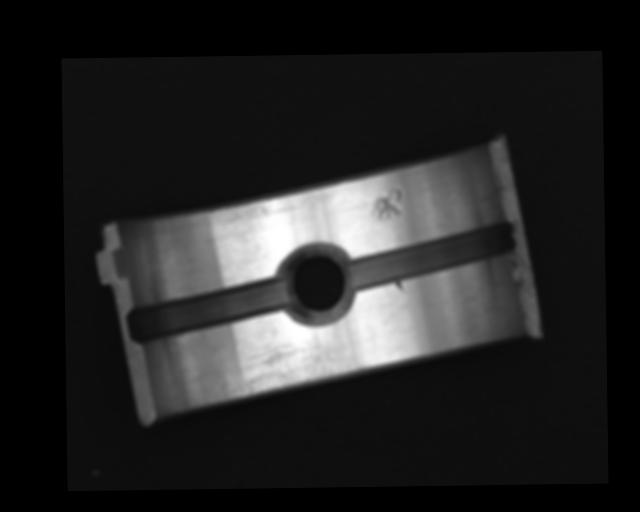bruise: (370, 187, 404, 220), (394, 280, 405, 293)
gap: (347, 223, 518, 290), (126, 275, 289, 342)
hole: (278, 244, 355, 324)
scratch: (215, 330, 363, 404)
